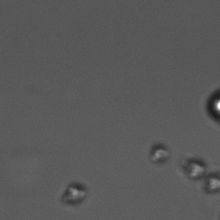Dead Cell: (55, 178, 94, 209), (182, 155, 208, 180), (147, 140, 173, 163), (199, 172, 220, 195)
